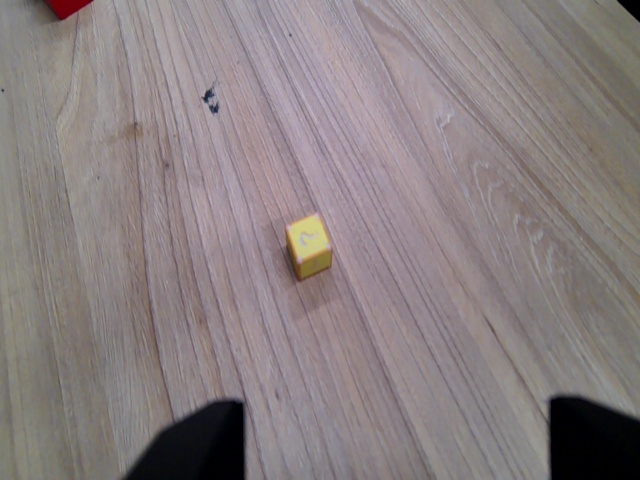lucky: (277, 211, 337, 284)
